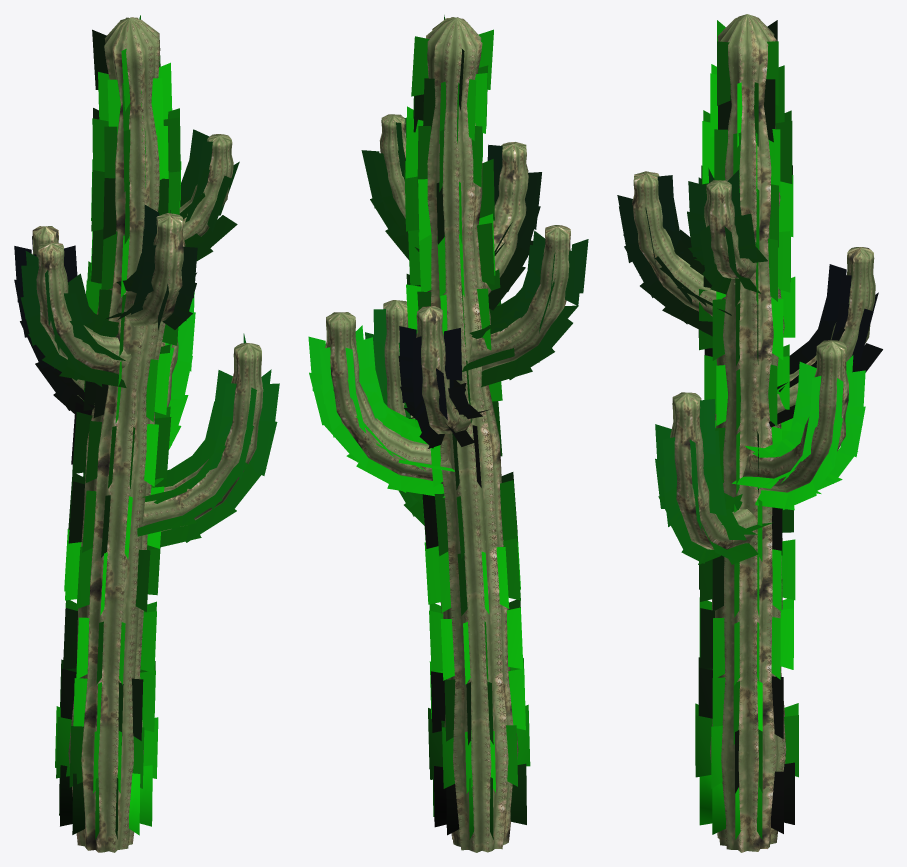
File: cactus.fbx
3 renders of one model, left to right at view 1: azimuth 30°, elevation 25°; view 2: azimuth 150°, elevation 25°; view 3: azimuth 270°, elevation 25°, orthographic. The views are drawn at different scales.
Parts seen in each view (by area): view 1: thorns_1, plant07_0; view 2: thorns_1, plant07_0; view 3: thorns_1, plant07_0.
Boxes of the visible parts, left/top/right/bottom form: thorns_1: left=14, top=15, right=279, bottom=839; plant07_0: left=32, top=17, right=263, bottom=852; thorns_1: left=308, top=15, right=588, bottom=839; plant07_0: left=325, top=17, right=570, bottom=852; thorns_1: left=617, top=20, right=882, bottom=839; plant07_0: left=632, top=14, right=875, bottom=852.
Size of the model in its own units: 68.75 by 229 by 68.15.
